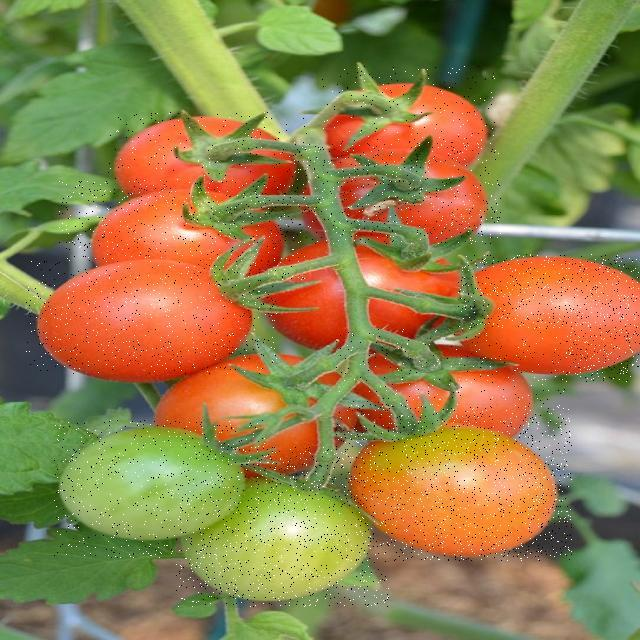Tomato: (340, 405, 572, 561), (176, 446, 389, 607), (26, 257, 277, 374), (55, 420, 266, 558), (336, 330, 566, 450), (59, 180, 305, 280), (458, 255, 640, 382), (293, 143, 501, 244), (107, 112, 308, 214), (321, 66, 496, 174)
